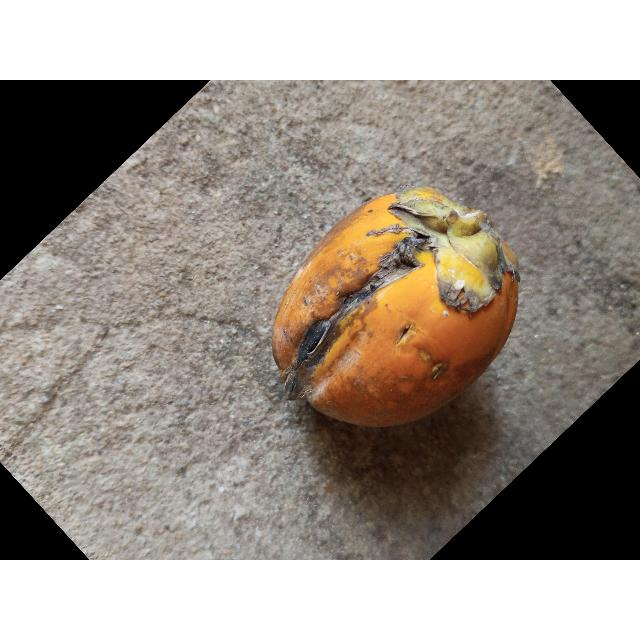damaged: (273, 187, 520, 426)
